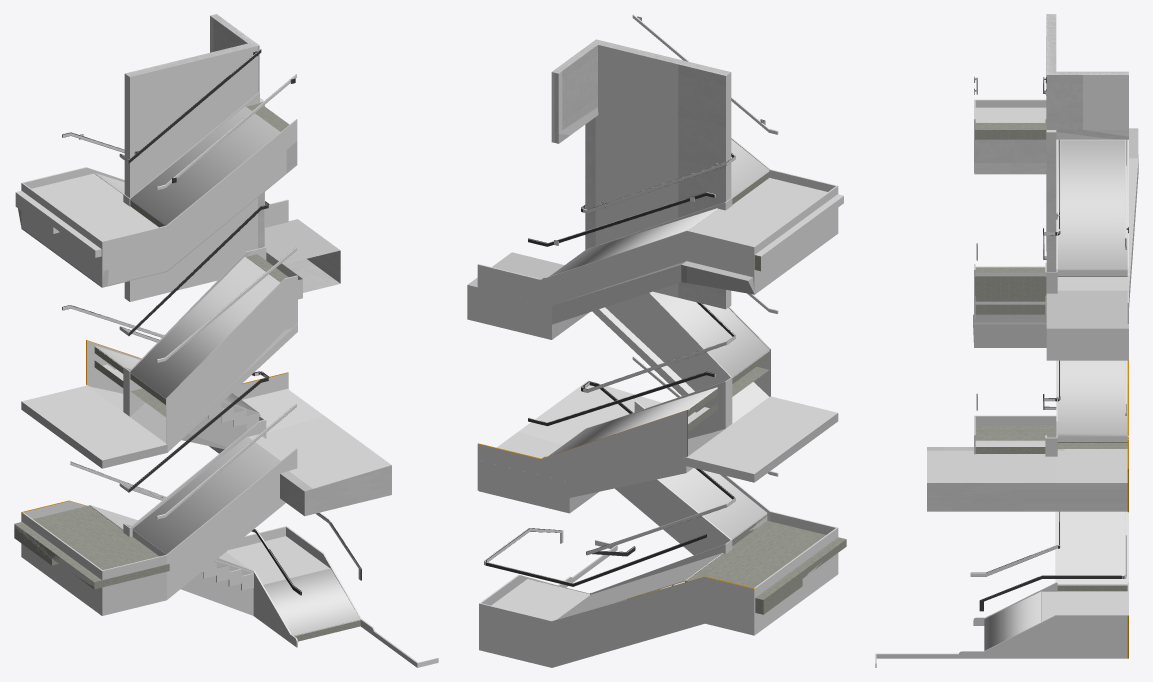
Rendered from imp_all_stair_4_sized.glb.
The picture shows the model from 3 angles, left to right: view 1: azimuth 30°, elevation 25°; view 2: azimuth 150°, elevation 25°; view 3: azimuth 270°, elevation 25°; orthographic projection. The views are drawn at different scales.
Parts seen in each view (by area): view 1: SIMP_COL, NOCOL_Cube_009, NOCOL_Cube_009.001, NOCOL_Cube_065, NOCOL_Cube_037, NOCOL_Cube_035, NOCOL_Cube_037.001; view 2: SIMP_COL, NOCOL_Cube_009, NOCOL_Cube_035, NOCOL_Cube_009.001, NOCOL_Cube_065, NOCOL_Cube_037.001; view 3: SIMP_COL, NOCOL_Cube_009, NOCOL_Cube_037, NOCOL_Cube_065, NOCOL_Cube_035, NOCOL_Cube_009.001.
Boxes of the visible parts, box(x1,y1,x2,y2) form: SIMP_COL: box(14, 15, 438, 667); NOCOL_Cube_009: box(15, 49, 438, 667); NOCOL_Cube_009.001: box(14, 500, 169, 615); NOCOL_Cube_065: box(18, 141, 340, 292); NOCOL_Cube_037: box(181, 434, 391, 516); NOCOL_Cube_035: box(125, 14, 264, 248); NOCOL_Cube_037.001: box(21, 401, 167, 468); SIMP_COL: box(467, 14, 843, 667); NOCOL_Cube_009: box(478, 17, 846, 614); NOCOL_Cube_035: box(552, 39, 730, 309); NOCOL_Cube_009.001: box(686, 512, 846, 614); NOCOL_Cube_065: box(468, 232, 838, 339); NOCOL_Cube_037.001: box(754, 413, 838, 482); SIMP_COL: box(927, 14, 1138, 653); NOCOL_Cube_009: box(875, 77, 1128, 667); NOCOL_Cube_037: box(927, 314, 1127, 511); NOCOL_Cube_065: box(974, 128, 1138, 328); NOCOL_Cube_035: box(1046, 14, 1128, 271); NOCOL_Cube_009.001: box(975, 416, 1056, 440).
Bounding box in the file's own units: 6.72 × 12.56 × 5.43.
Materials: 8 (4 with a texture image).
